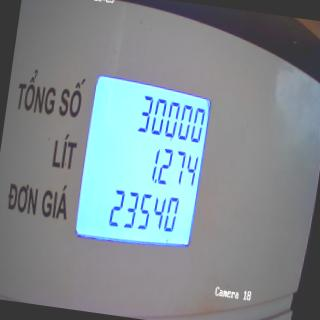screen: (70, 65, 216, 257)
